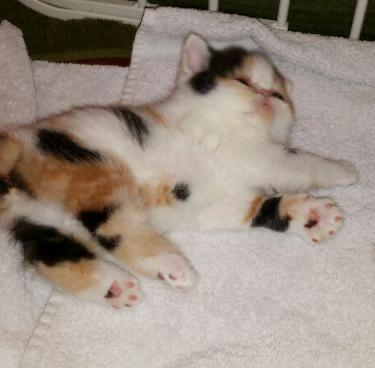macka: (0, 31, 361, 311)
